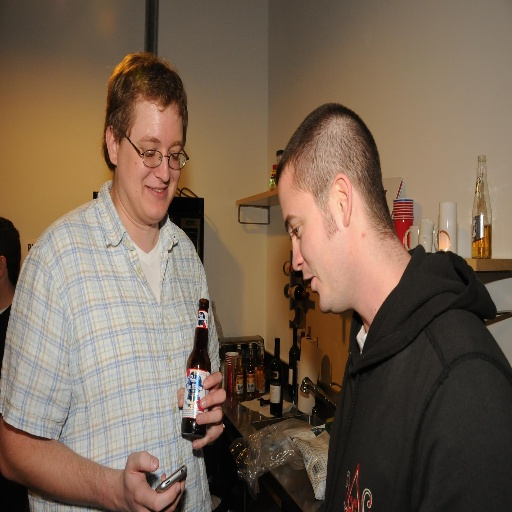hand: (98, 445, 174, 505), (176, 370, 227, 452)
